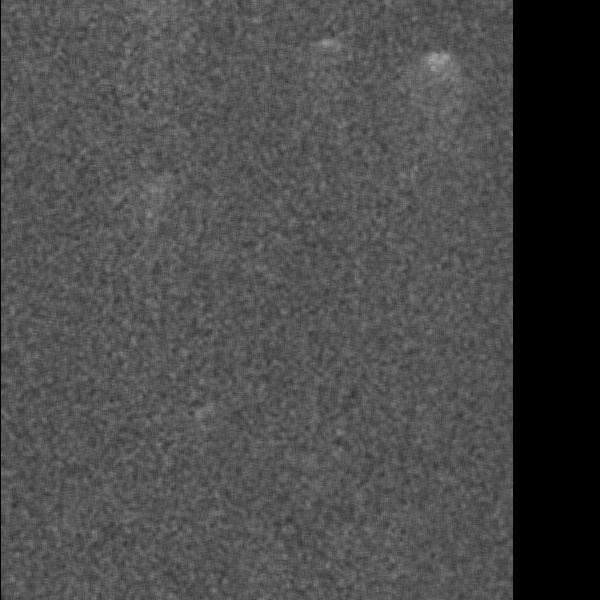spark: (16, 28, 59, 153), (404, 239, 453, 322), (380, 560, 396, 585)
